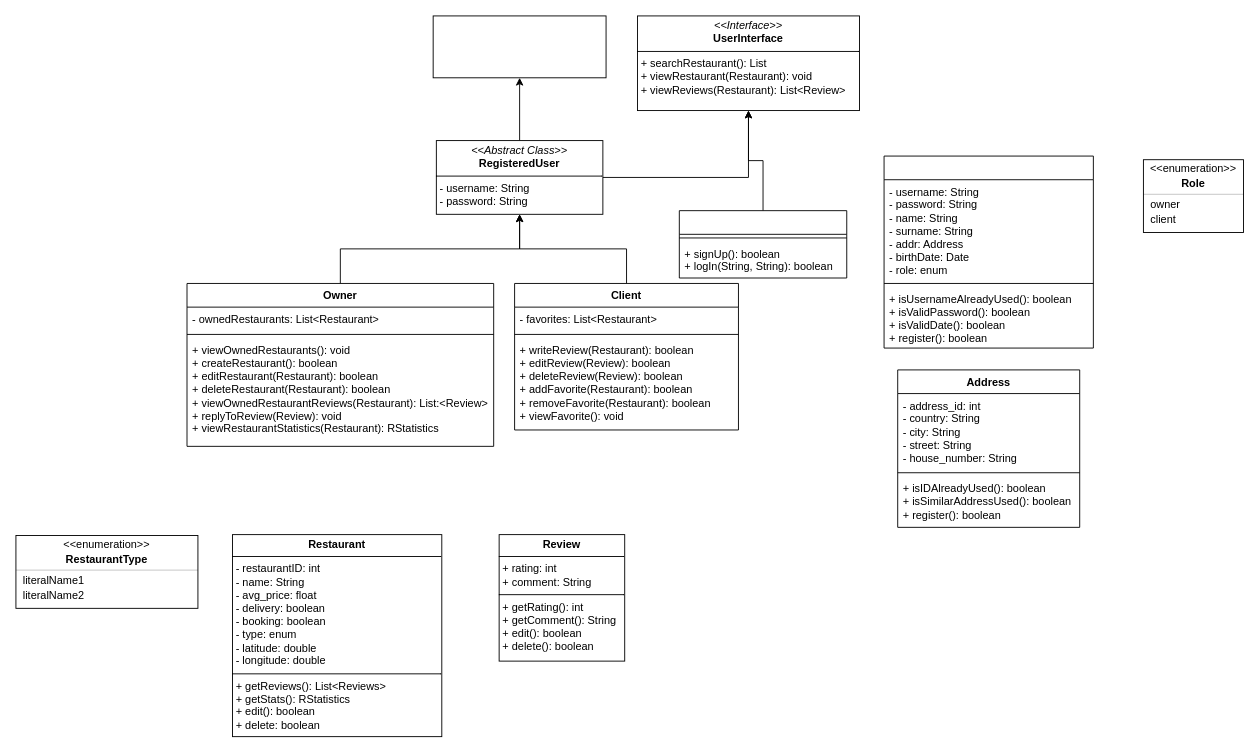
This 1259x753 diagram has some shape labels left out. Here are the shapes that lost their labels. From the top down, the box of each, then its label:
(432, 15, 606, 78): <<Interface>> RegisteredUserInterface + logOut(): void
(678, 210, 847, 278): NonRegisteredUser
(883, 155, 1093, 348): RegistrationForm
